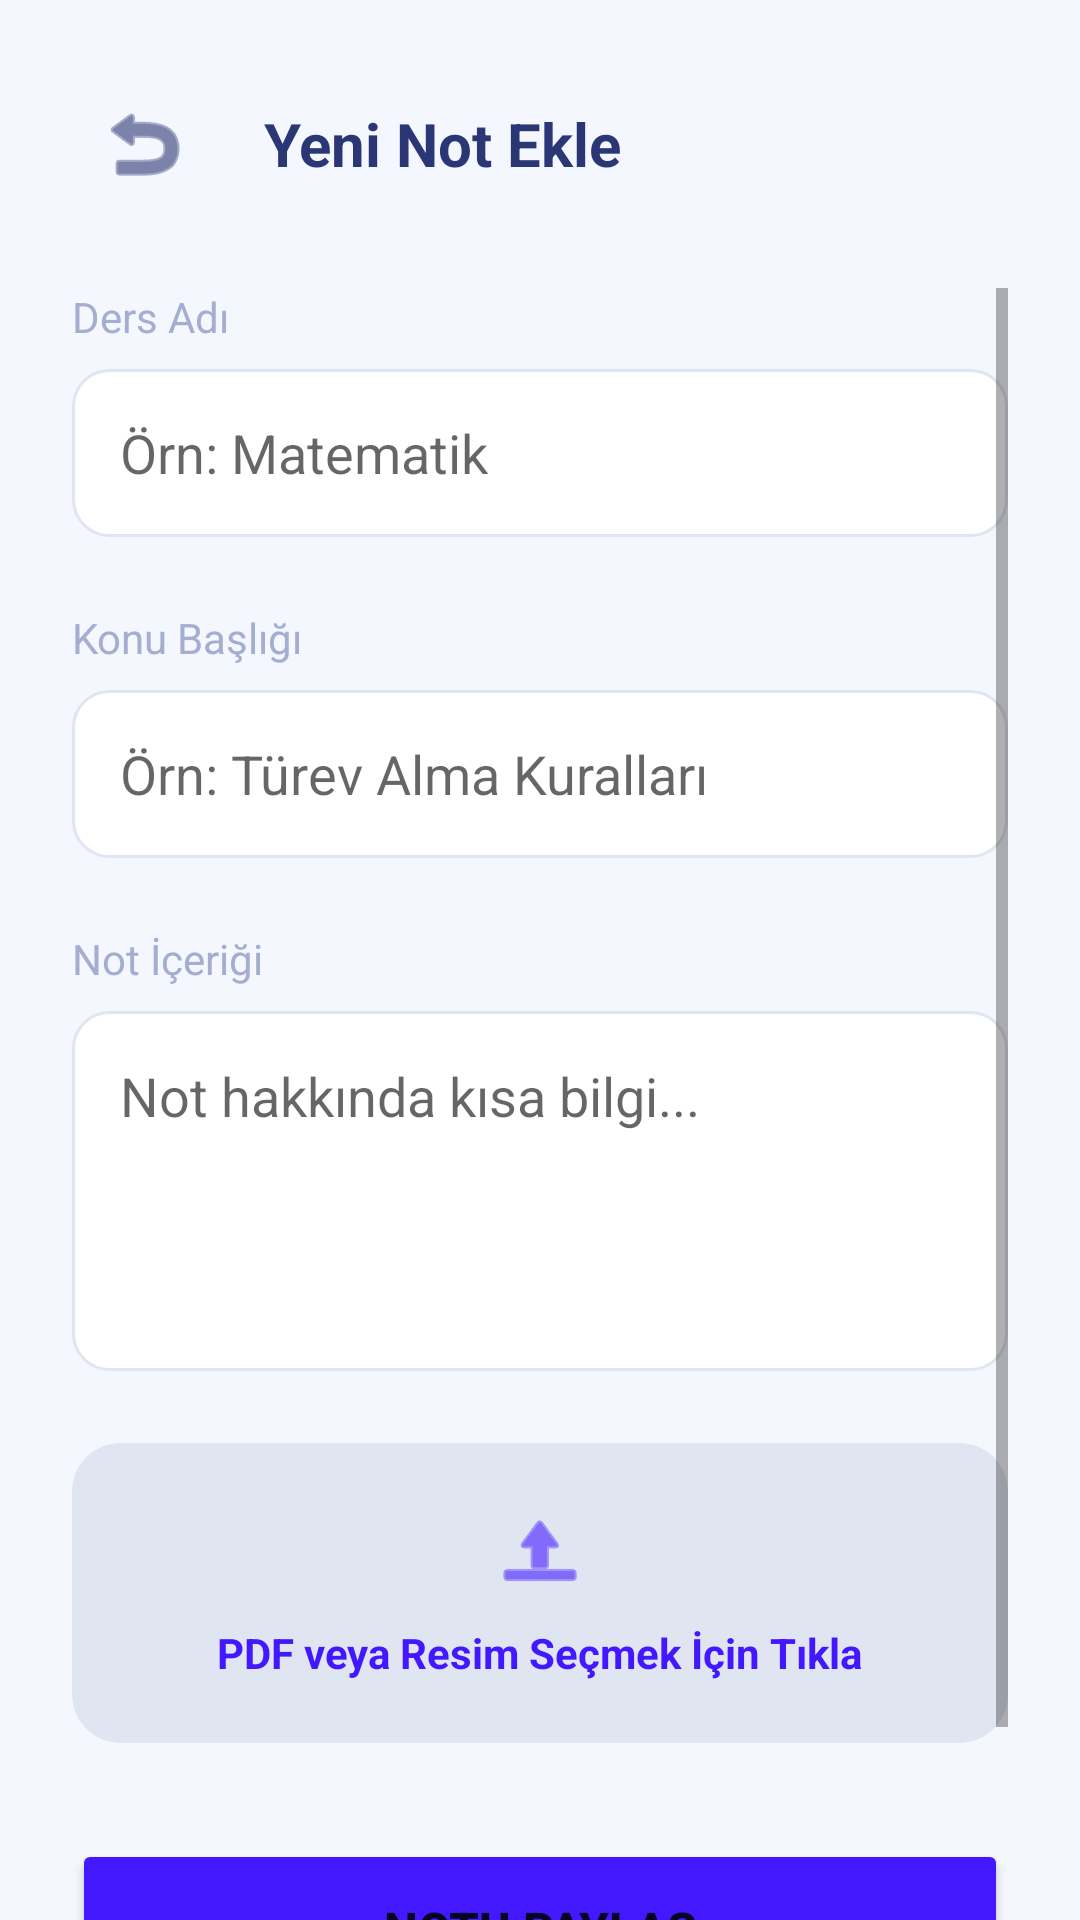

Icon bounding boxes for this 1080px×1920px phone screenshot, format bbox(x1, y1, x2, y2):
revert: bbox(111, 113, 180, 176)
upload: bbox(503, 1520, 577, 1581)
